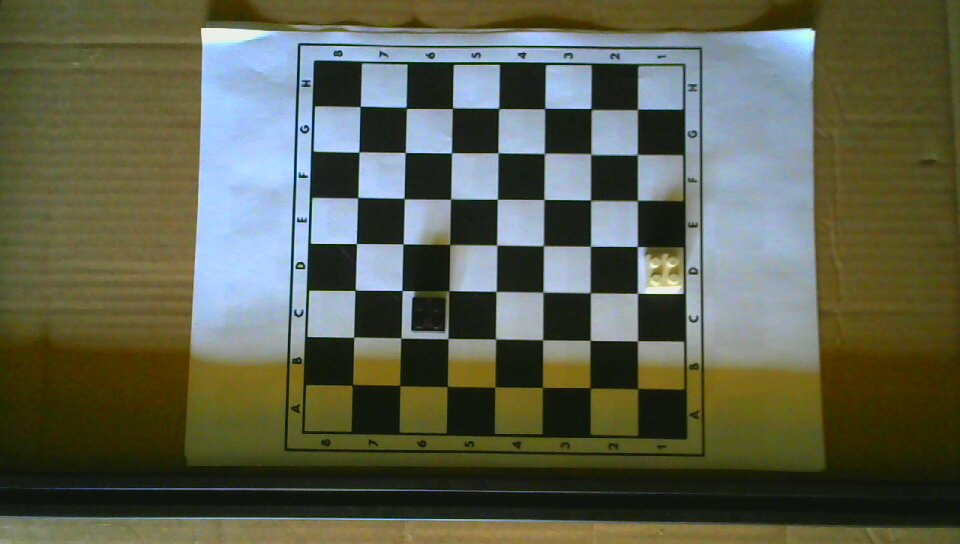bp: (409, 293, 447, 333)
wp: (642, 251, 683, 291)
